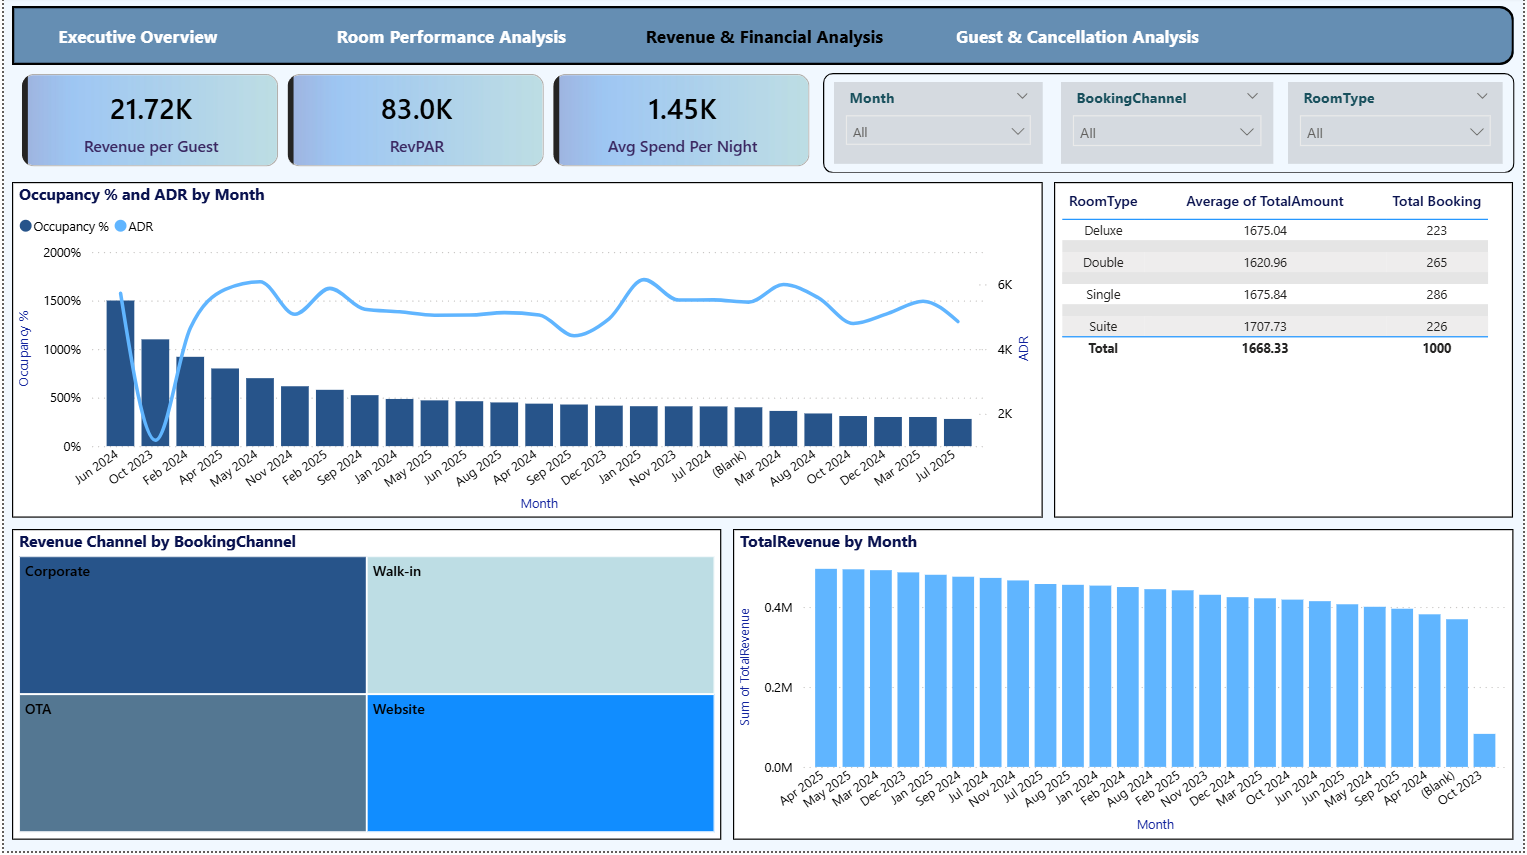

This screenshot's page, from the dashboard's own definition file:
{"tool":"powerbi","page":{"name":"Revenue & Financial Analysis","canvas":[1280,720],"ordinal":3},"visuals":[{"type":"shape","box":[690.2,64.1,583,84.4],"z":0},{"type":"shape","box":[6.8,7.6,1266.5,49.8],"z":1000},{"type":"lineClusteredColumnComboChart","title":"Occupancy % and ADR by Month","fields":{"Category":["DateTable.Month"],"Y":["Rooms.Occupancy %"],"Y2":["Sum(Revenue.ADR(Avg Daily rtae))"]},"box":[6.3,155.7,869,283.3],"z":2000},{"type":"clusteredColumnChart","title":" TotalRevenue by Month","fields":{"Y":["Sum(Revenue.TotalRevenue)"],"Category":["DateTable.Month"]},"box":[614.3,448.9,658.1,261.6],"z":3000},{"type":"treemap","title":"Revenue Channel by BookingChannel","fields":{"Group":["Bookings.BookingChannel"],"Values":["Bookings.Revenue by Channel"]},"box":[6.8,448.9,598.2,261.6],"z":4000},{"type":"slicer","fields":{"Values":["DateTable.Month"]},"box":[699.5,71.7,176.3,69.2],"z":5000},{"type":"slicer","fields":{"Values":["Bookings.BookingChannel"]},"box":[891,71.7,178.9,69.2],"z":6000},{"type":"slicer","fields":{"Values":["Rooms.RoomType"]},"box":[1082.6,71.7,181.4,69.2],"z":7000},{"type":"tableEx","fields":{"Values":["Rooms.RoomType","Avg(Bookings.TotalAmount)","Bookings.Total Booking"]},"box":[885.1,156.1,387.3,282.7],"z":8000},{"type":"cardVisual","fields":{"Data":["Guests.Revenue per Guest","Sum(Revenue.RevPAR)","Bookings.Avg Spend Per Night"]},"box":[10.1,59.9,674.2,88.6],"z":9000},{"type":"pageNavigator","box":[10.1,7.6,1262.3,50.6],"z":10000}]}

Visuals, with their boxes in screenshot pixels (x1, y1, x2, y2), scaled from the page's 1280x720 canvas onto the 1527x855 screenshot:
shape: [823, 76, 1519, 176]
shape: [8, 9, 1519, 68]
"Occupancy % and ADR by Month" lineClusteredColumnComboChart: [8, 185, 1044, 521]
" TotalRevenue by Month" clusteredColumnChart: [733, 533, 1518, 844]
"Revenue Channel by BookingChannel" treemap: [8, 533, 722, 844]
slicer - DateTable.Month: [834, 85, 1045, 167]
slicer - Bookings.BookingChannel: [1063, 85, 1276, 167]
slicer - Rooms.RoomType: [1292, 85, 1508, 167]
tableEx - Rooms.RoomType x Avg(Bookings.TotalAmount): [1056, 185, 1518, 521]
cardVisual - Guests.Revenue per Guest x Sum(Revenue.RevPAR): [12, 71, 816, 176]
pageNavigator: [12, 9, 1518, 69]
